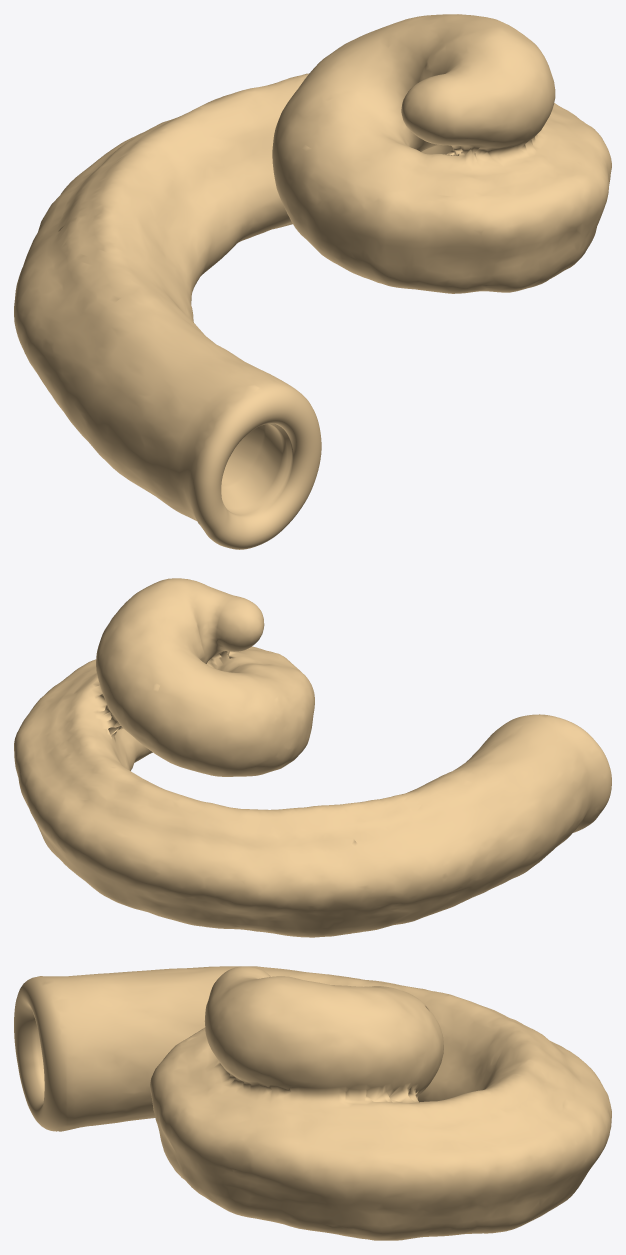
The model's file is squalodon_cochlea.glb.
The picture shows the model from 3 angles, top to bottom: view 1: azimuth 30°, elevation 25°; view 2: azimuth 150°, elevation 25°; view 3: azimuth 270°, elevation 25°; orthographic projection. The views are drawn at different scales.
Parts seen in each view (by area): view 1: Squalodon_calvertensis_Cochlea_Hollow; view 2: Squalodon_calvertensis_Cochlea_Hollow; view 3: Squalodon_calvertensis_Cochlea_Hollow.
Boxes of the visible parts, left/top/right/bottom form: Squalodon_calvertensis_Cochlea_Hollow: left=14, top=14, right=611, bottom=549; Squalodon_calvertensis_Cochlea_Hollow: left=14, top=578, right=611, bottom=937; Squalodon_calvertensis_Cochlea_Hollow: left=14, top=966, right=611, bottom=1240.
Size of the model in its own units: 8.98 by 5 by 8.92.
